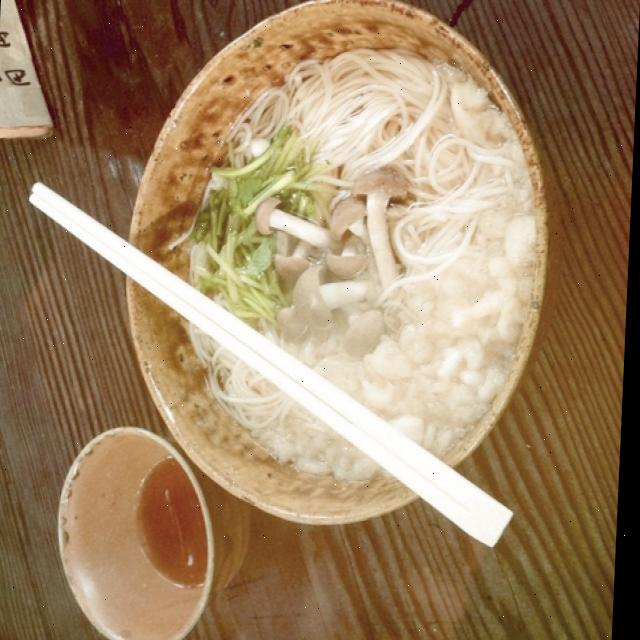面条主食: (92, 3, 571, 529)
